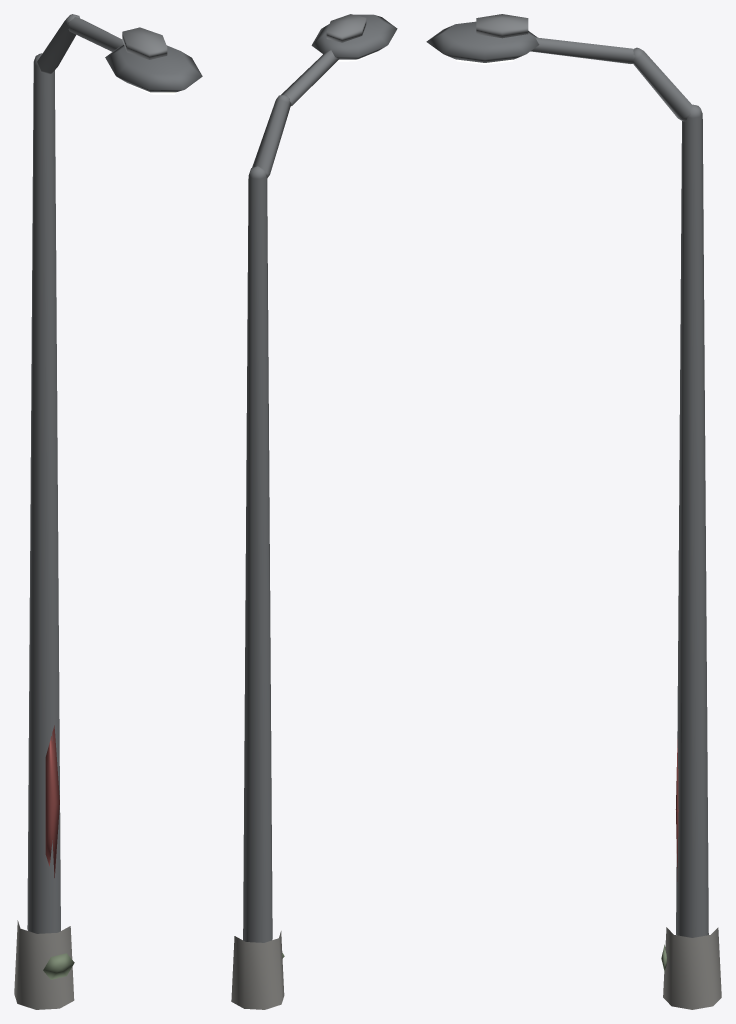
The model's file is poste_luz.glb.
3 views of the same model, side by side, from view 1: azimuth 30°, elevation 25°; view 2: azimuth 150°, elevation 25°; view 3: azimuth 270°, elevation 25° (orthographic). The views are drawn at different scales.
Visible parts, largest first — view 1: poste, lamp_head; view 2: poste, lamp_head; view 3: poste, lamp_head.
Boxes of the visible parts, x1=… form: poste: x1=14, y1=14, x2=123, y2=1009; lamp_head: x1=105, y1=27, x2=202, y2=92; poste: x1=231, y1=50, x2=339, y2=1009; lamp_head: x1=311, y1=14, x2=397, y2=59; poste: x1=530, y1=37, x2=721, y2=1009; lamp_head: x1=426, y1=14, x2=539, y2=62.
Bounding box in the file's own units: 0.48 × 6.25 × 1.71.
